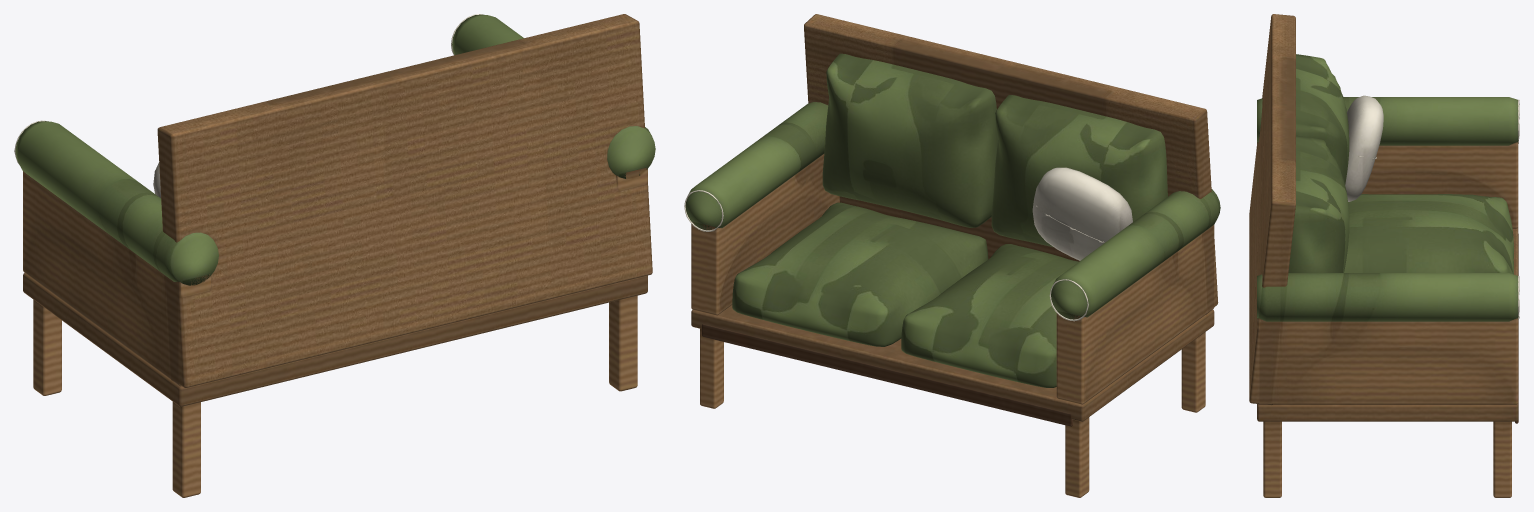
File: sofa_moss.glb
3 renders of one model, left to right at view 1: azimuth 30°, elevation 25°; view 2: azimuth 150°, elevation 25°; view 3: azimuth 270°, elevation 25°, orthographic. The views are drawn at different scales.
Visible parts, largest first — view 1: sofa_moss_wood, sofa_moss_felt_moss; view 2: sofa_moss_wood, sofa_moss_back1, sofa_moss_seat1, sofa_moss_felt_moss, sofa_moss_seat0, sofa_moss_back0, sofa_moss_felt_ivory, sofa_moss_wood_dark; view 3: sofa_moss_wood, sofa_moss_felt_moss, sofa_moss_seat0, sofa_moss_back1, sofa_moss_back0, sofa_moss_felt_ivory.
Part boxes in pixels (box(x1,y1,x2,y2)): sofa_moss_wood: box(23, 14, 652, 497); sofa_moss_felt_moss: box(15, 14, 655, 285); sofa_moss_wood: box(691, 14, 1218, 497); sofa_moss_back1: box(822, 53, 998, 227); sofa_moss_seat1: box(732, 202, 988, 346); sofa_moss_felt_moss: box(685, 102, 1220, 319); sofa_moss_seat0: box(901, 244, 1078, 387); sofa_moss_back0: box(991, 95, 1167, 247); sofa_moss_felt_ivory: box(1032, 167, 1132, 260); sofa_moss_wood_dark: box(701, 324, 1072, 426); sofa_moss_wood: box(1249, 14, 1518, 497); sofa_moss_felt_moss: box(1257, 97, 1518, 321); sofa_moss_seat0: box(1344, 194, 1513, 274); sofa_moss_back1: box(1288, 135, 1349, 272); sofa_moss_back0: box(1296, 54, 1349, 184); sofa_moss_felt_ivory: box(1345, 95, 1383, 201).
Bounding box in the file's own units: 3 × 2.12 × 1.74.
Materials: 9 (8 with a texture image).
